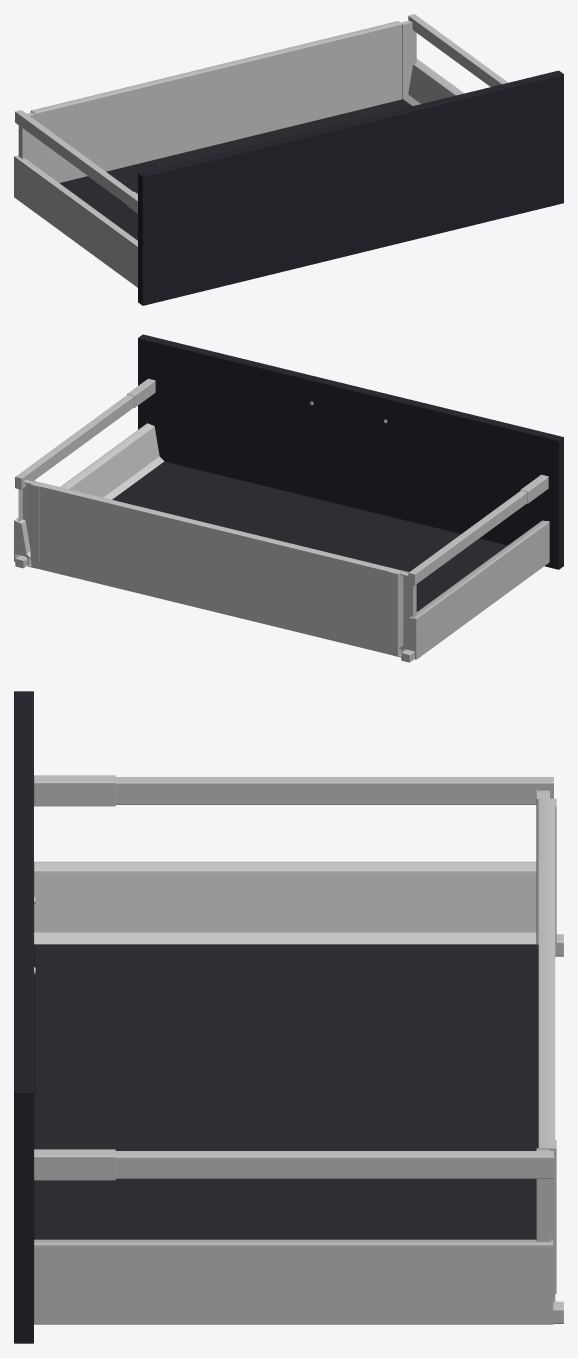
The model's file is SM_Kitchen_11_Drawer_02.dae.
3 views of the same model, one above another, from view 1: azimuth 30°, elevation 25°; view 2: azimuth 150°, elevation 25°; view 3: azimuth 270°, elevation 25° (orthographic). The views are drawn at different scales.
Visible parts, largest first — view 1: SM_Kitchen_11_Drawer_02; view 2: SM_Kitchen_11_Drawer_02; view 3: SM_Kitchen_11_Drawer_02.
Boxes of the visible parts, x1,y1,x2,y2 form: SM_Kitchen_11_Drawer_02: [14, 14, 563, 305]; SM_Kitchen_11_Drawer_02: [14, 334, 563, 662]; SM_Kitchen_11_Drawer_02: [14, 691, 563, 1343].
Bounding box in the file's own units: 0.8969 × 0.5199 × 0.263.
